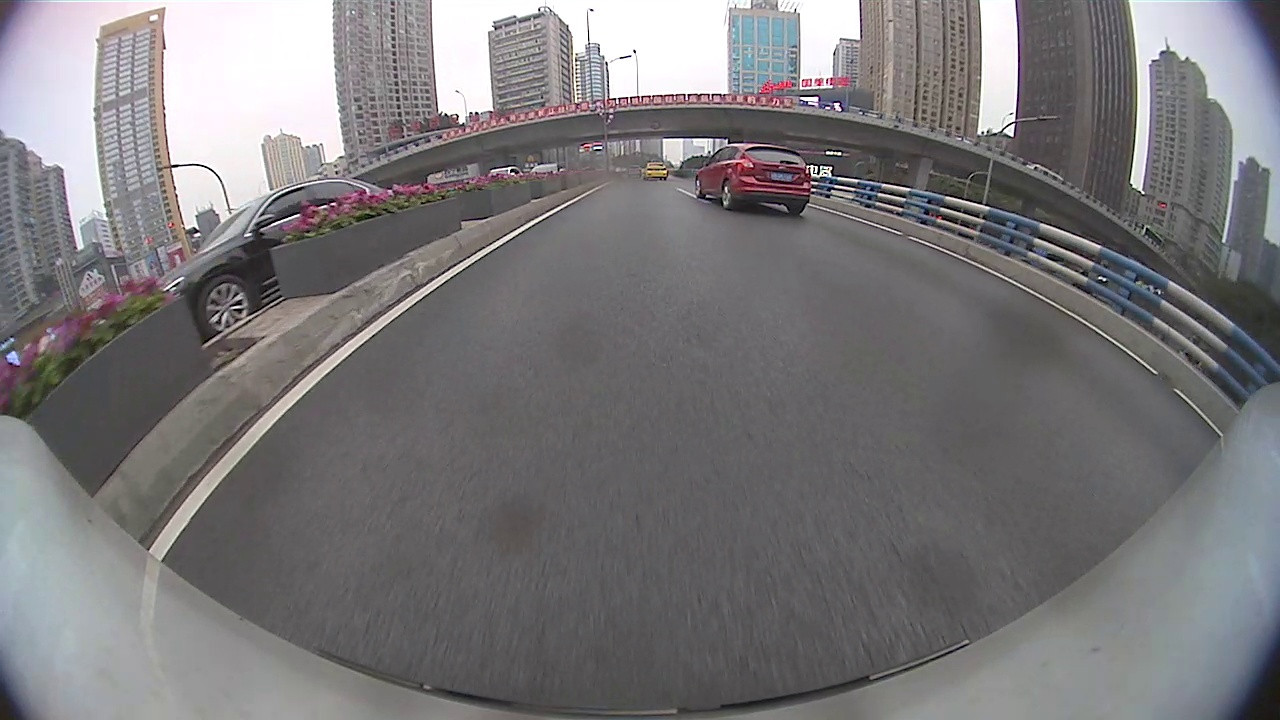car: (148, 173, 401, 350), (692, 138, 815, 218), (525, 159, 570, 182), (484, 162, 527, 183), (641, 158, 672, 184)
front: (196, 275, 257, 341)
rear: (719, 181, 735, 211)
